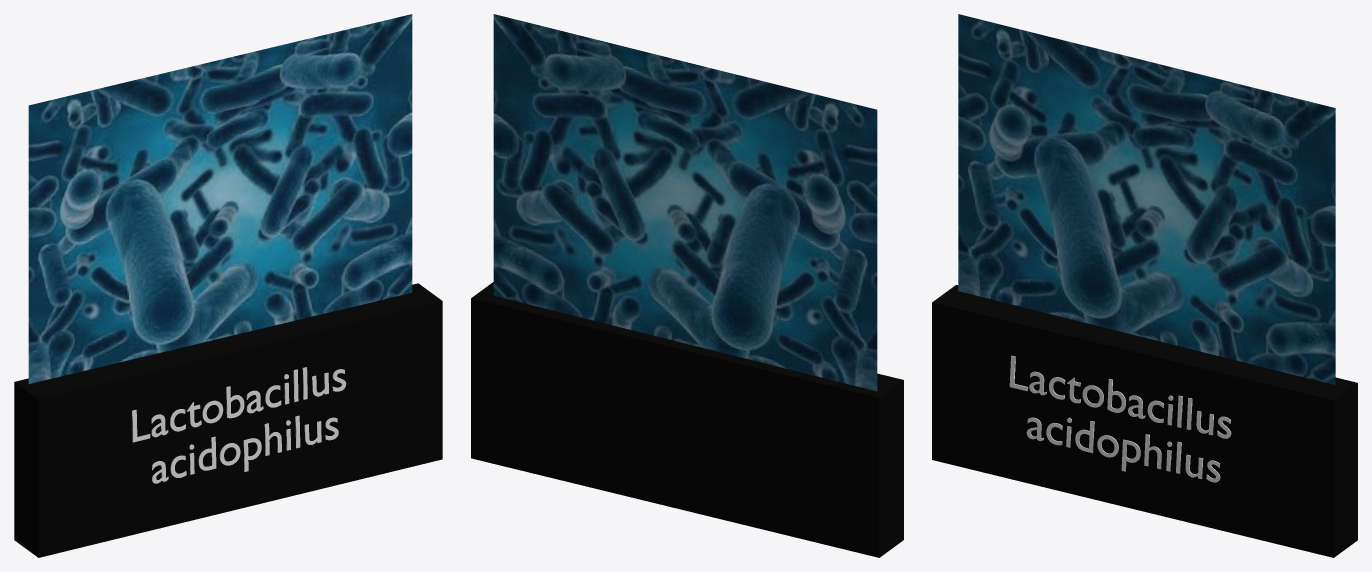
File: lacto.gltf
The picture shows the model from 3 angles, left to right: view 1: azimuth 30°, elevation 25°; view 2: azimuth 150°, elevation 25°; view 3: azimuth 330°, elevation 25°; orthographic projection.
Parts seen in each view (by area): view 1: lactobacillus, Cube.008, Text; view 2: lactobacillus, Cube.008; view 3: lactobacillus, Cube.008, Text.
Part boxes in pixels (box(x1,y1,x2,y2)): lactobacillus: box(28, 14, 412, 383); Cube.008: box(14, 283, 442, 557); Text: box(132, 367, 346, 483); lactobacillus: box(493, 14, 877, 391); Cube.008: box(471, 282, 903, 557); lactobacillus: box(958, 14, 1335, 385); Cube.008: box(932, 285, 1357, 557); Text: box(1009, 355, 1231, 482).
Bounding box in the file's own units: 2.04 × 2.11 × 0.2942.
2 materials, 1 textured.
